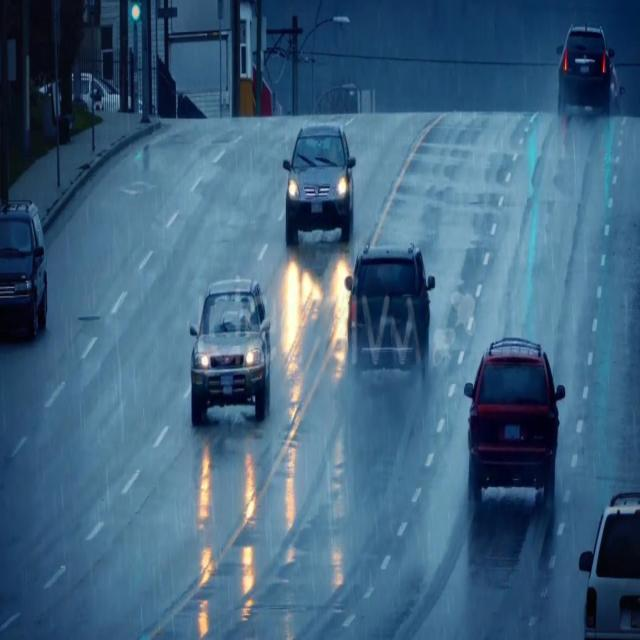car: (465, 341, 561, 506), (187, 273, 270, 427), (345, 249, 431, 375), (284, 125, 356, 244), (0, 200, 50, 343), (579, 493, 627, 599), (554, 27, 610, 110)
